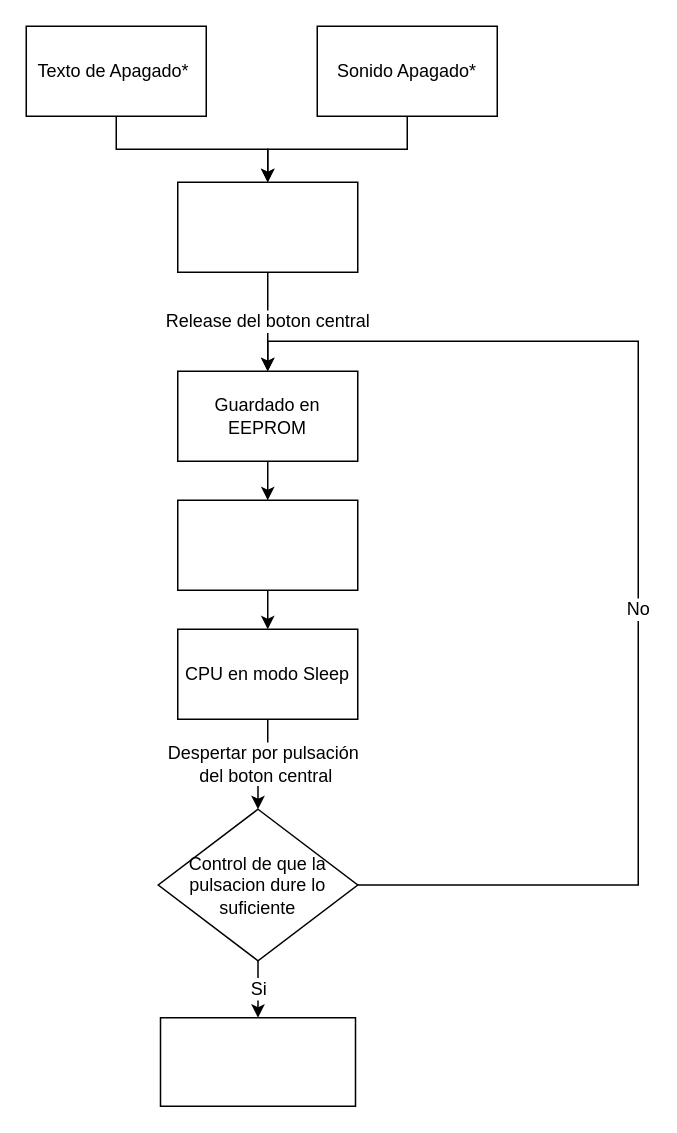
Image size: 677x1133. Some labels were removed from this diagram. Here are the shapes that lost their labels. From the top down, the centre of each, then its label:
point (267, 226): Control de la pulsacion del boton central
point (267, 544): Entrada en modo bajo consumo
point (257, 1061): Despertar completado. Comienzo de Start-up
